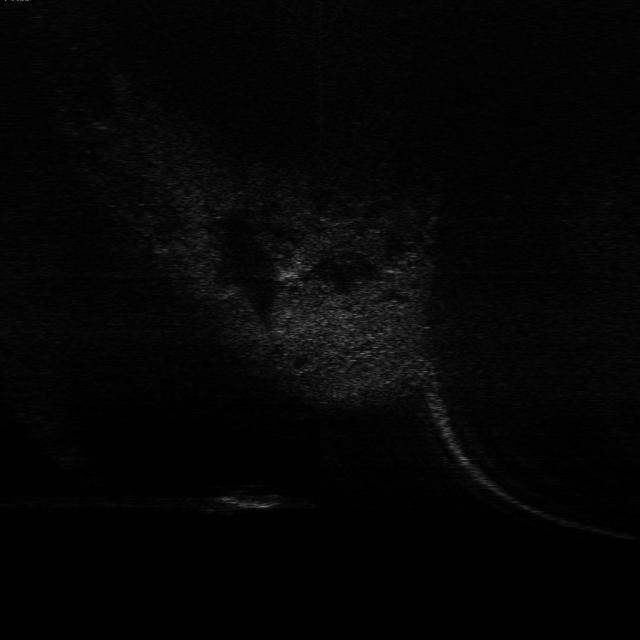square cage: (210, 474, 290, 515)
